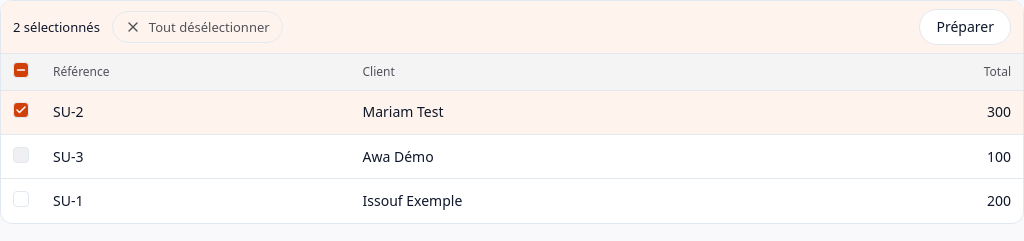
it: DataTable — controlled selection › shows a mixed state and keeps ids selected on other pages
The width and height of the screenshot is (1024, 241).
Expected: the text "2 sélectionnés" is shown, [13, 18, 100, 36]
Step 1. Click the checkbox named "Sélectionner toutes les lignes de cette page" → (21, 70), box [13, 62, 29, 78]
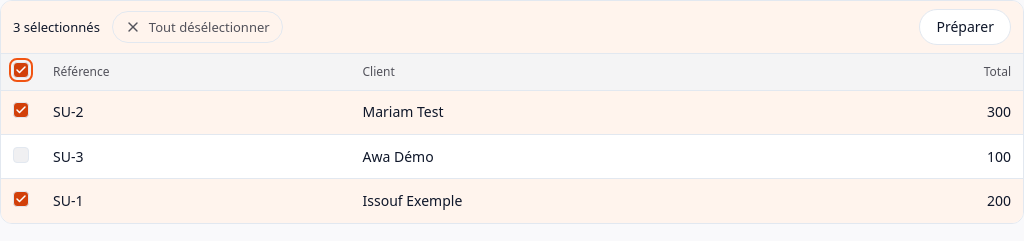
Expected: the text "3 sélectionnés" is shown, [13, 18, 100, 36]
Step 2. Click the checkbox named "Sélectionner toutes les lignes de cette page" → (21, 70), box [13, 62, 29, 78]
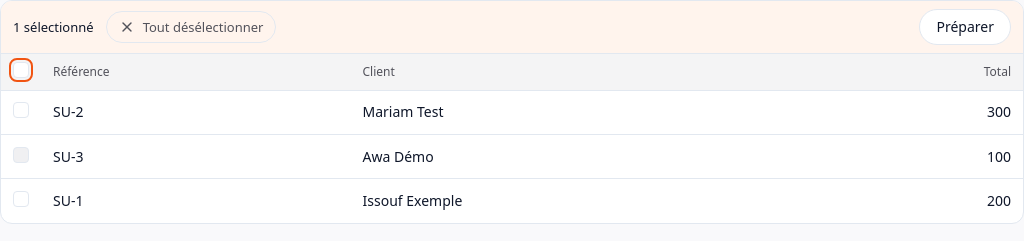
Expected: the text "1 sélectionné" is shown, [13, 18, 94, 36]
Step 3. Click the button "Tout désélectionner" → (191, 27), box [106, 11, 276, 43]
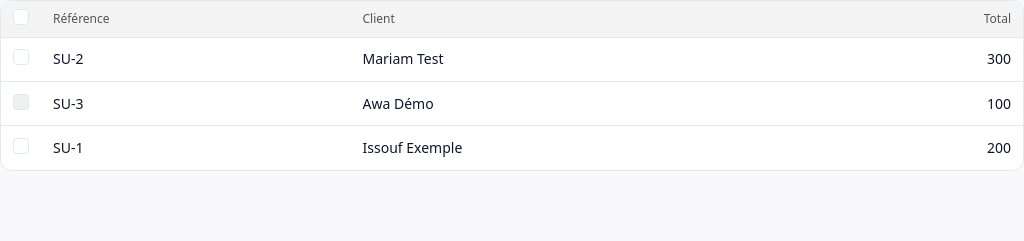
Expected: the text "sélectionné" is gone
